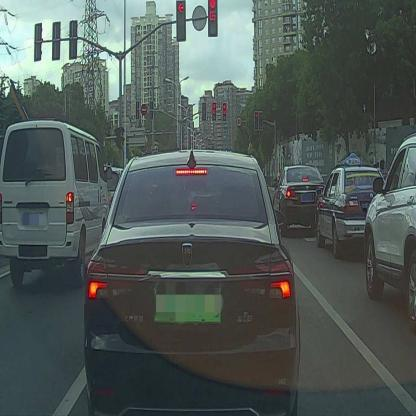Red Light: (207, 0, 218, 39), (253, 112, 260, 129)
